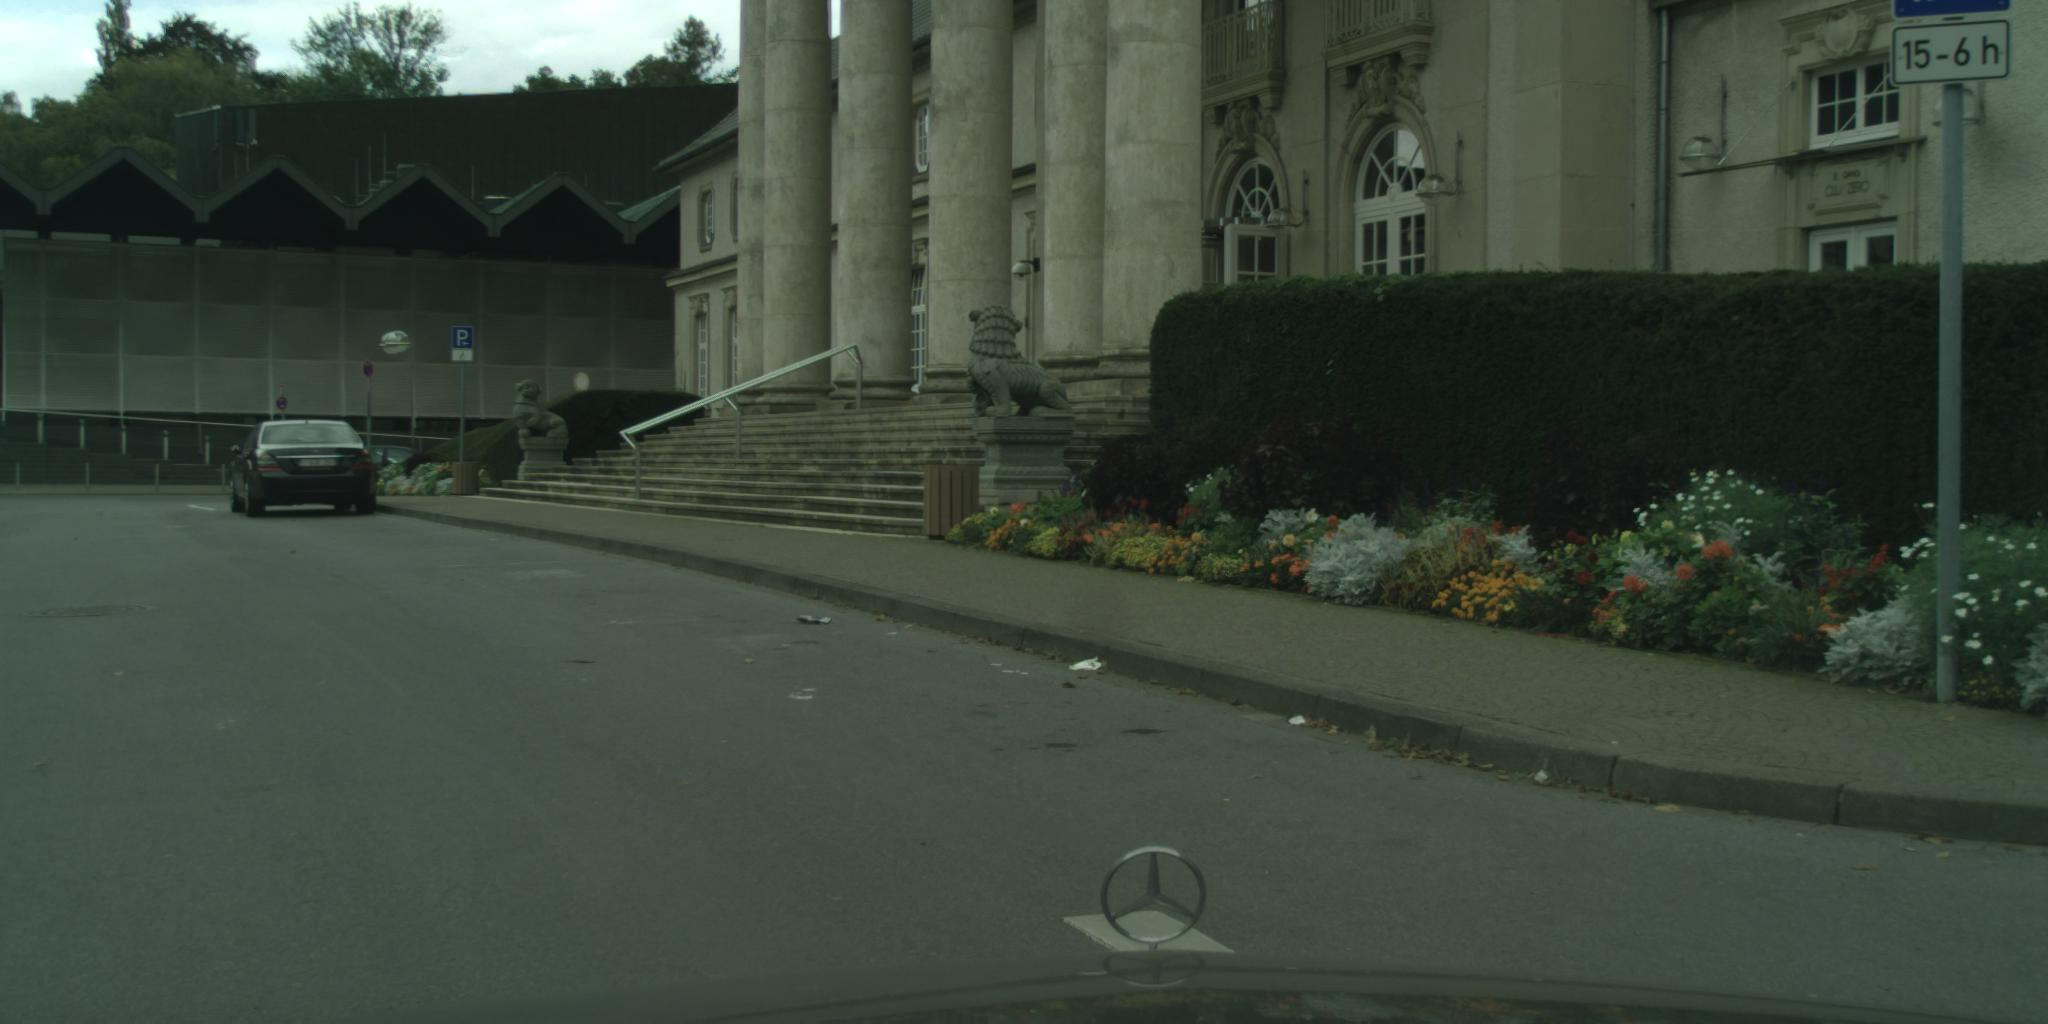car: (230, 419, 377, 519), (355, 447, 428, 477)
